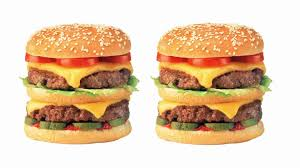hamburger: (150, 20, 273, 146), (21, 20, 137, 144)
